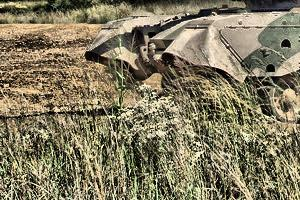tanks: (87, 1, 300, 122)
